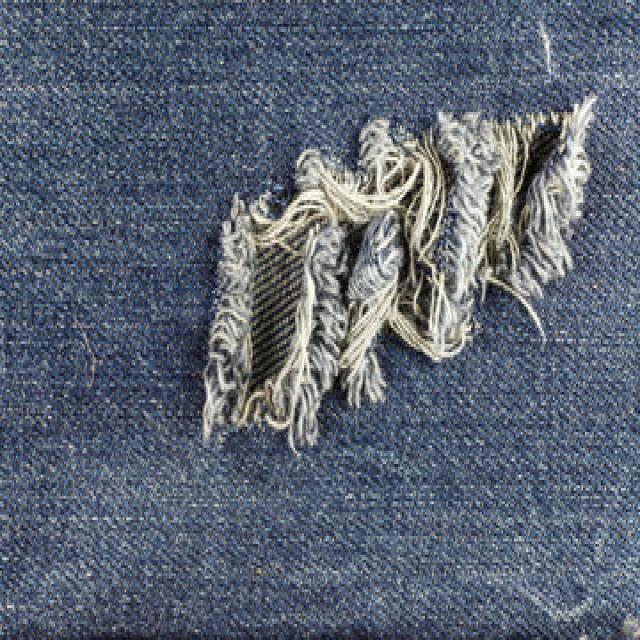Hole: (203, 96, 595, 451)
